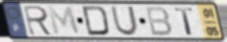B: (144, 6, 174, 37)
D: (81, 5, 112, 37)
M: (46, 5, 83, 36)
R: (22, 4, 55, 37)
T: (173, 7, 196, 36)
U: (110, 5, 140, 37)
